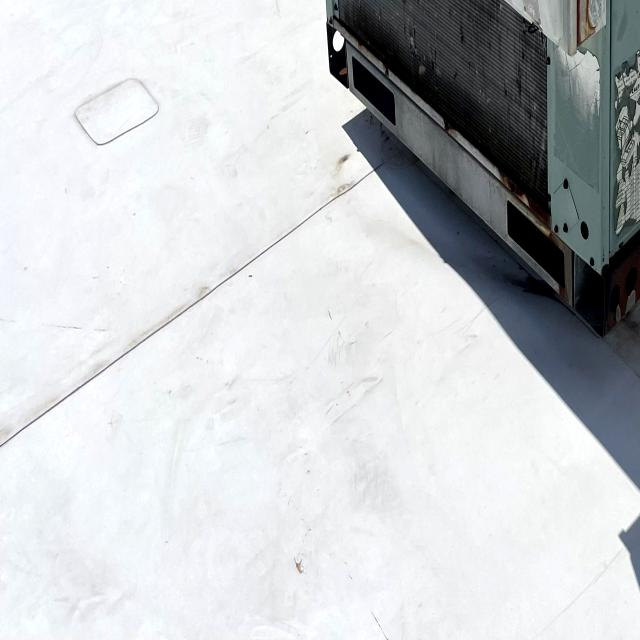RTU: (296, 0, 640, 357)
